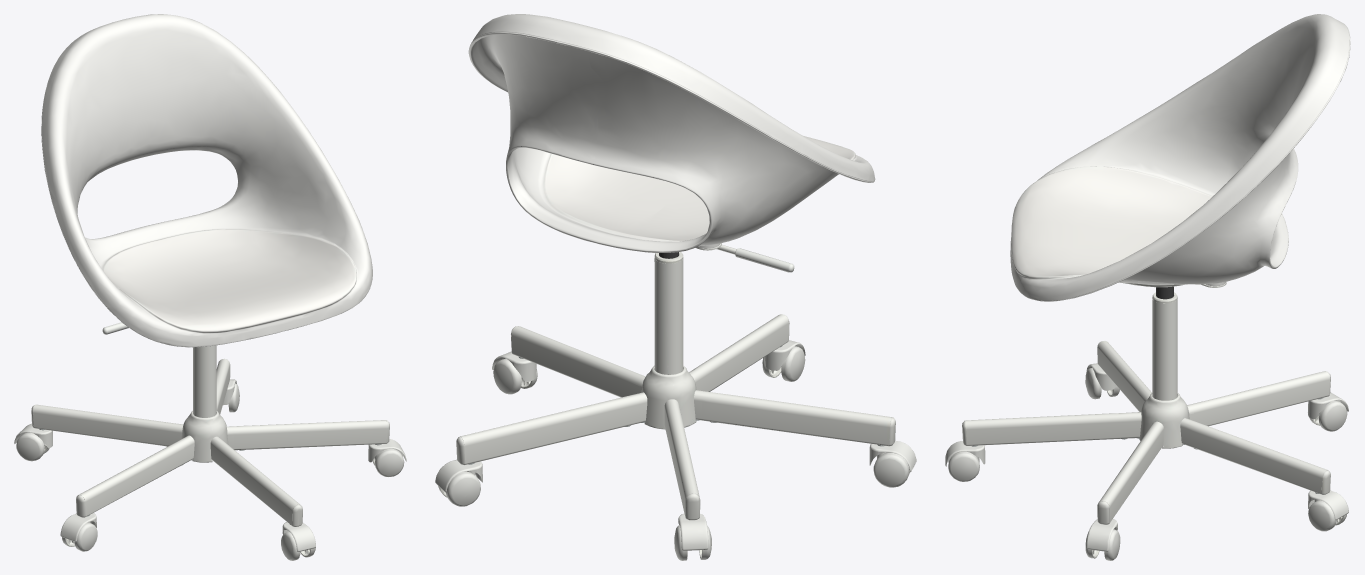
The model's file is loberget_malskaer_swivel_chair_white.glb.
3 renders of one model, left to right at view 1: azimuth 30°, elevation 25°; view 2: azimuth 150°, elevation 25°; view 3: azimuth 270°, elevation 25°, orthographic. The views are drawn at different scales.
Parts seen in each view (by area): view 1: model.001, model; view 2: model.001, model; view 3: model.001, model.
Boxes of the visible parts, x1,y1,x2,y2 form: model.001: (41,14,372,347); model: (14,322,406,560); model.001: (468,14,875,252); model: (435,243,916,560); model.001: (1010,14,1350,301); model: (945,282,1348,560).
Bounding box in the file's own units: 0.6731 × 0.7768 × 0.6434.
Materials: 2 (2 with a texture image).
